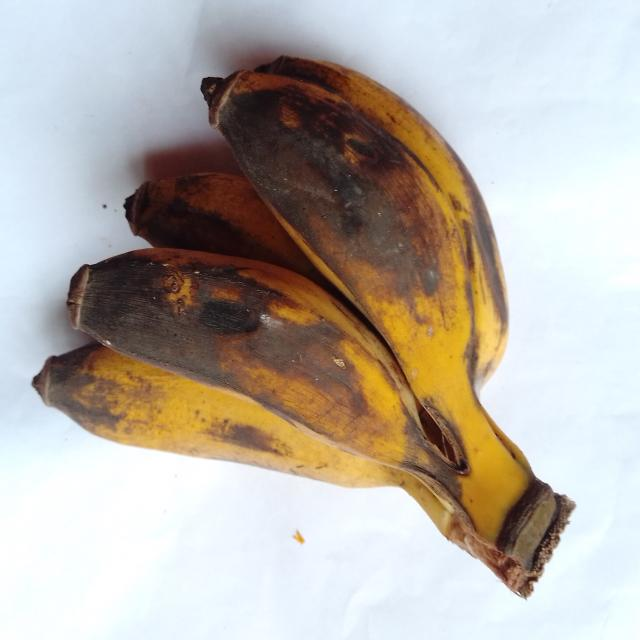banana: (204, 71, 572, 564), (69, 250, 570, 595), (256, 56, 507, 387), (34, 344, 450, 534), (125, 173, 338, 295), (125, 173, 328, 287)
